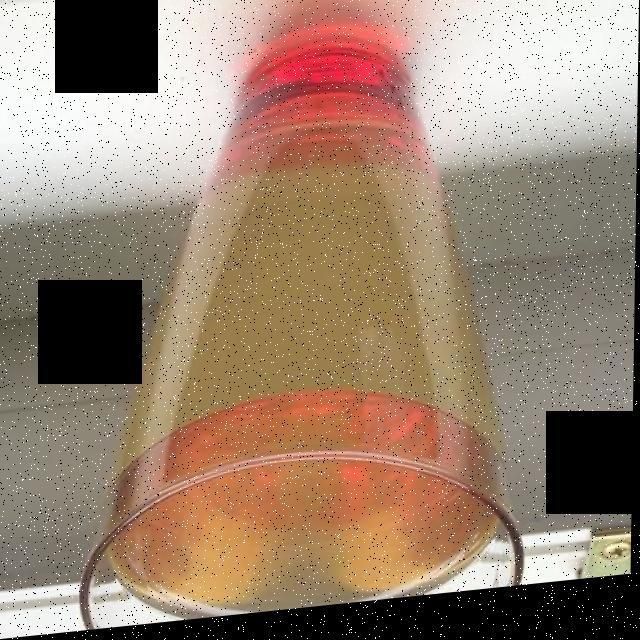drink: (109, 48, 511, 608)
